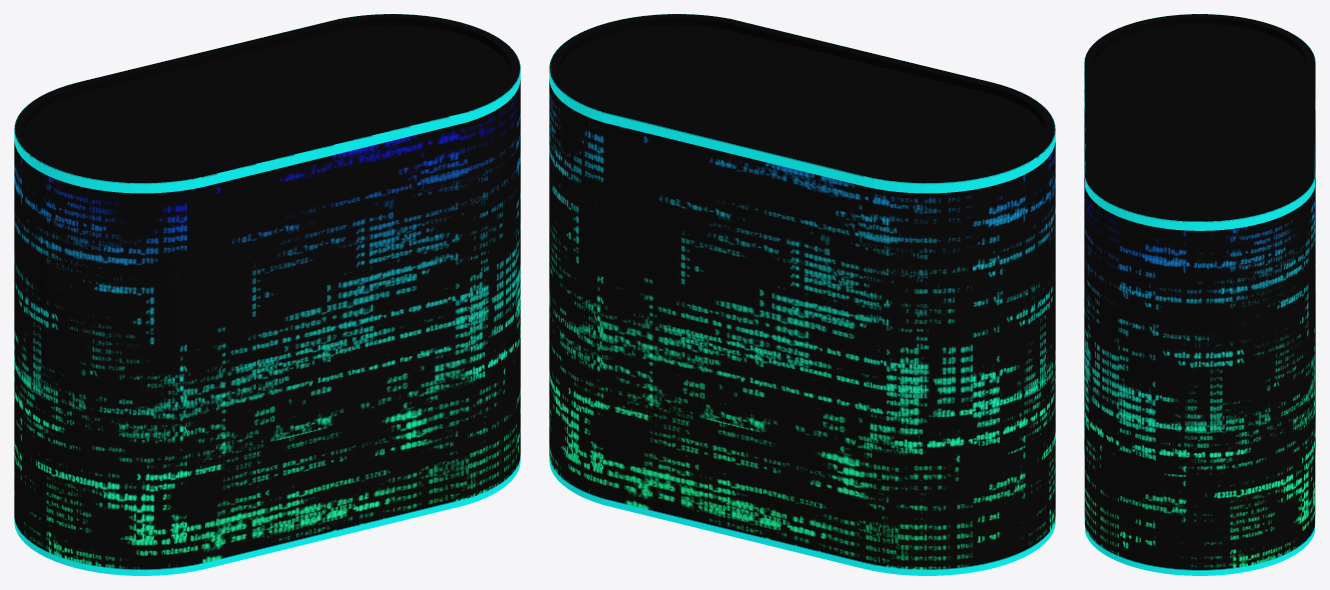
File: Round_s.gltf
3 views of the same model, side by side, from view 1: azimuth 30°, elevation 25°; view 2: azimuth 150°, elevation 25°; view 3: azimuth 270°, elevation 25° (orthographic). The views are drawn at different scales.
Parts seen in each view (by area): view 1: Cylinder.002; view 2: Cylinder.002; view 3: Cylinder.002.
Part boxes in pixels (box(x1,y1,x2,y2)): Cylinder.002: box(14, 14, 520, 575); Cylinder.002: box(549, 14, 1055, 575); Cylinder.002: box(1084, 14, 1315, 575).
Size of the model in its own units: 75.47 by 60 by 35.52.
3 materials, 3 textured.
